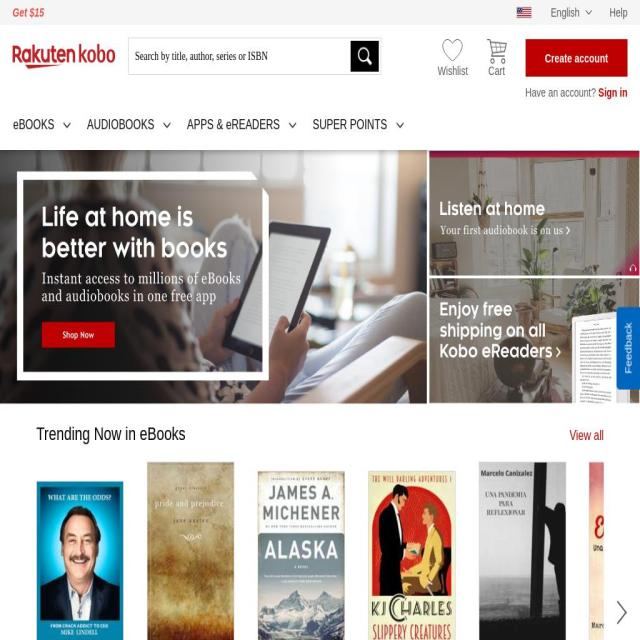button: (146, 461, 234, 640), (478, 461, 566, 640), (257, 471, 345, 640), (368, 471, 456, 640), (36, 481, 124, 640), (589, 461, 640, 640), (182, 106, 305, 150), (307, 106, 412, 150), (82, 106, 179, 150), (525, 39, 628, 77), (9, 106, 80, 150), (525, 77, 628, 100), (538, 0, 593, 25), (438, 39, 468, 78), (12, 0, 54, 25), (486, 39, 507, 78), (616, 307, 640, 338), (601, 0, 628, 25), (429, 278, 430, 280)
field: (128, 37, 381, 75), (350, 40, 379, 72)
heading: (12, 32, 116, 81), (36, 423, 186, 445)
image: (443, 39, 463, 61), (616, 600, 628, 626), (516, 6, 532, 16)
link: (0, 150, 640, 165), (430, 278, 640, 294), (430, 151, 640, 166), (570, 428, 604, 444)
text: (538, 0, 593, 25), (525, 86, 596, 99), (544, 52, 608, 65), (486, 39, 507, 64), (438, 61, 468, 77), (598, 86, 628, 99), (486, 64, 507, 78)
